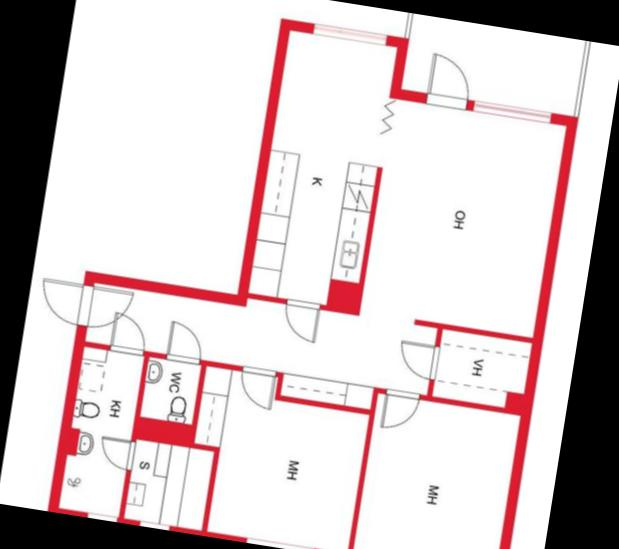door: (422, 48, 477, 112), (75, 281, 136, 335), (35, 276, 94, 328), (276, 295, 324, 344), (162, 317, 208, 368), (392, 335, 443, 381), (104, 308, 150, 358), (376, 383, 421, 433), (233, 362, 280, 409), (91, 432, 140, 473)
window: (468, 97, 558, 129), (305, 18, 394, 48), (241, 534, 321, 549), (130, 516, 176, 531), (79, 509, 121, 522)
